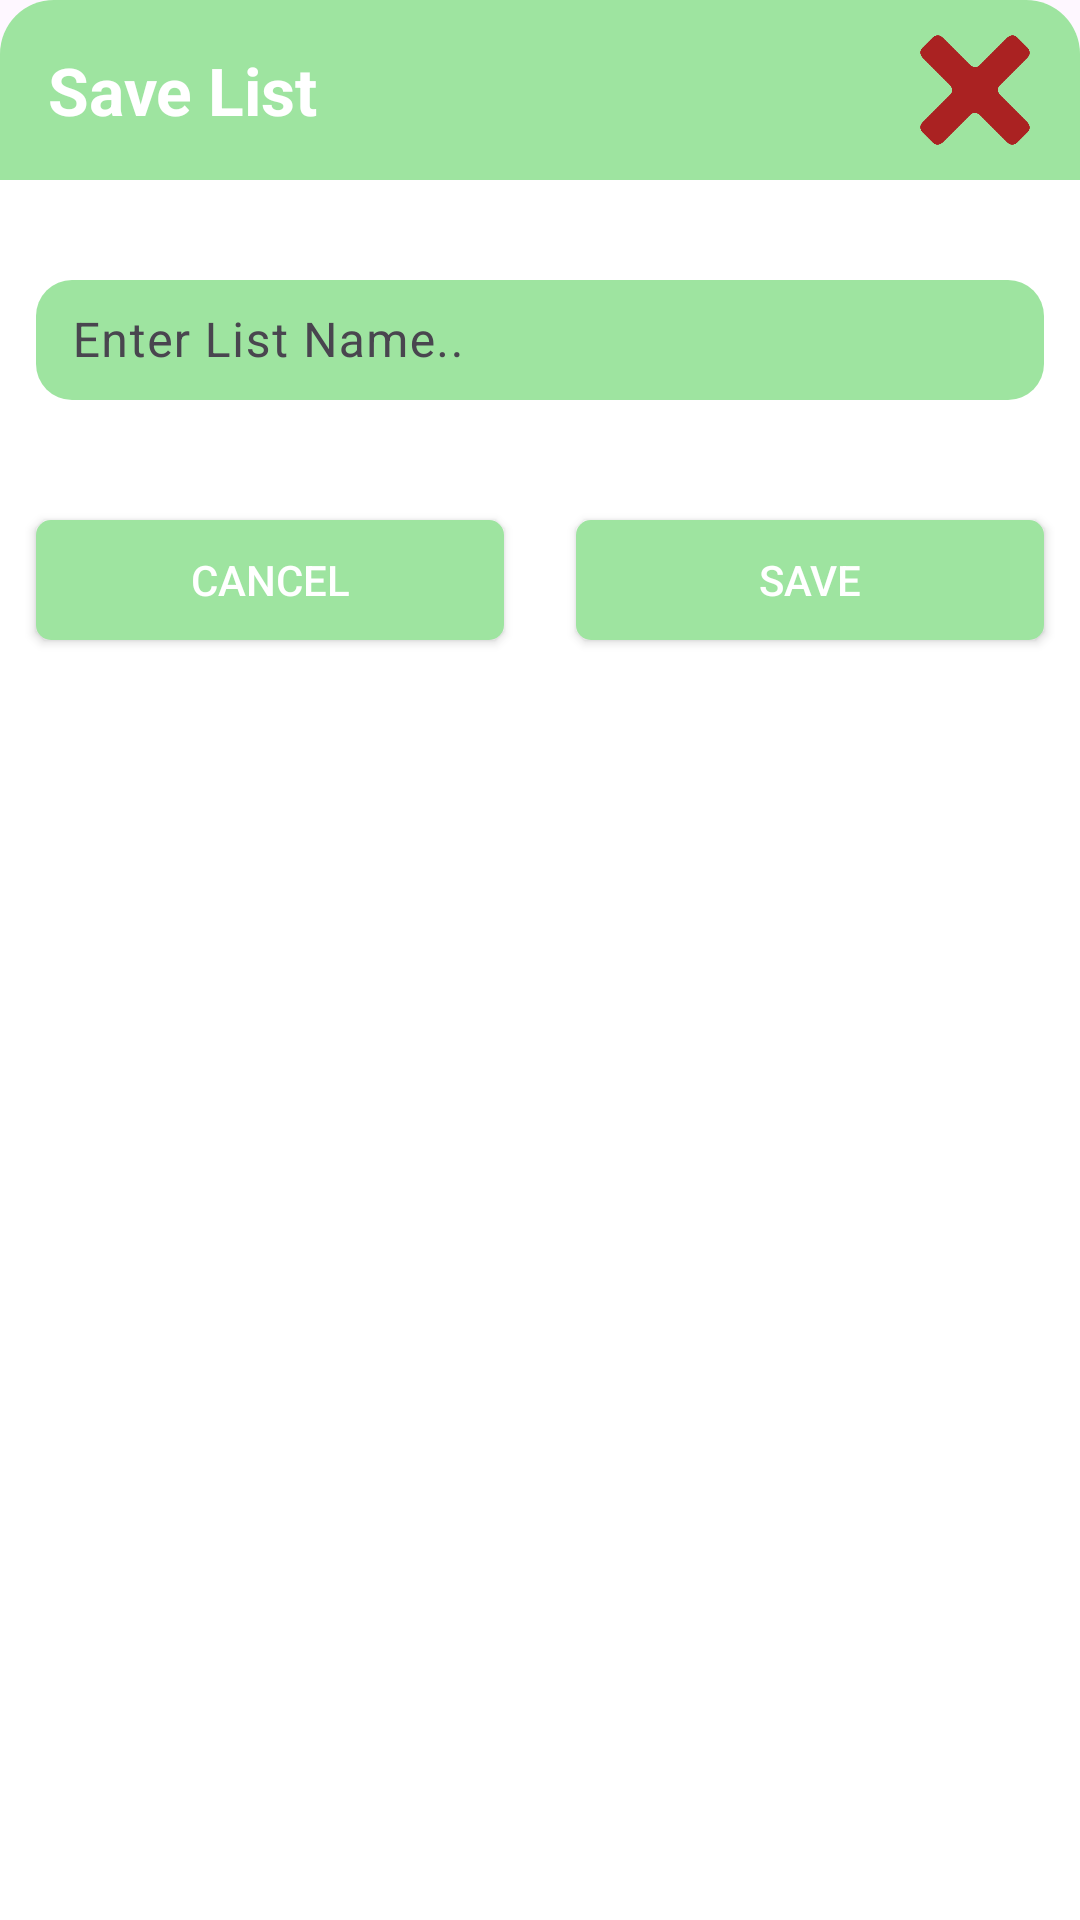

Icon click points for this 1080 x 1920 phone screenshot, format point (x, y):
close: point (975, 90)
